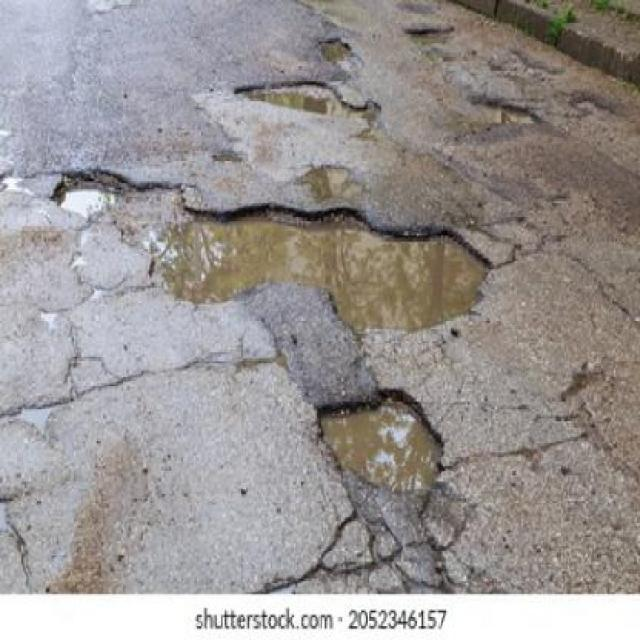pothole: (42, 139, 526, 364), (297, 350, 486, 506), (236, 54, 389, 128), (464, 80, 564, 137), (404, 7, 472, 50), (312, 22, 359, 64)
